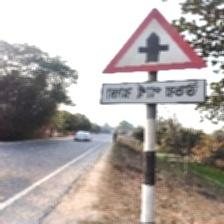Crossroad: (100, 7, 208, 107)
